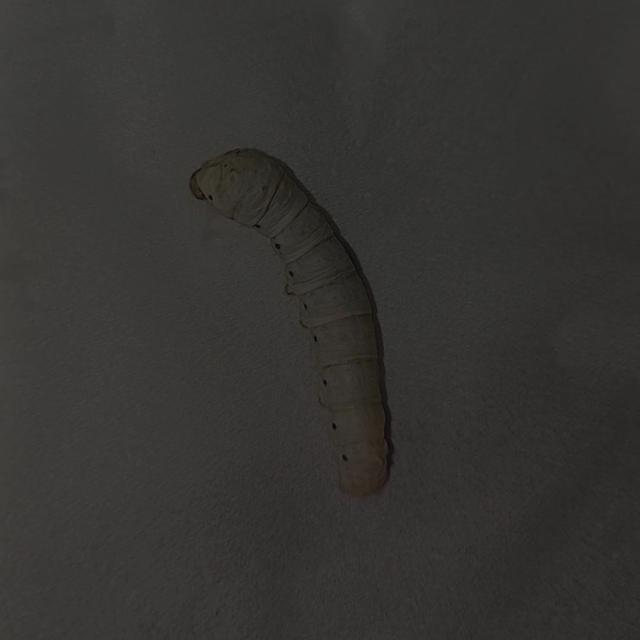Healthy: (181, 135, 397, 499)
